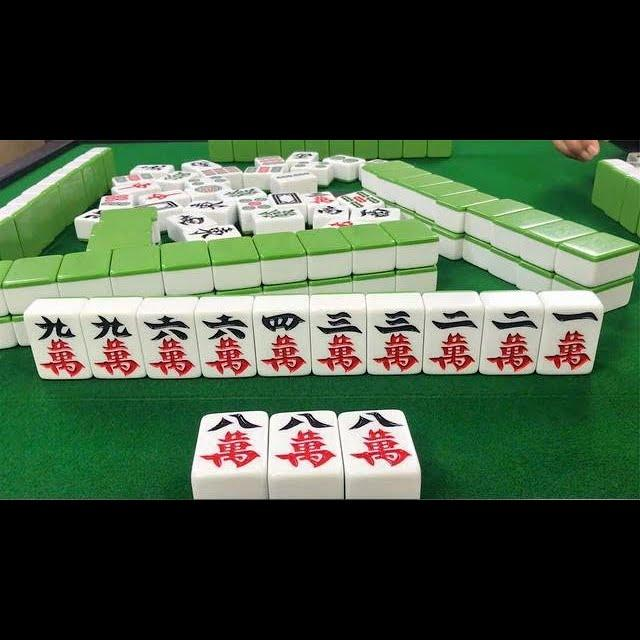c1: (542, 297, 602, 373)
c2: (484, 306, 540, 374), (426, 304, 480, 372)
c3: (369, 302, 423, 373), (312, 308, 366, 374)
c4: (256, 304, 308, 376)
c6: (143, 312, 197, 378), (199, 311, 253, 377)
c8: (194, 412, 266, 476), (342, 410, 413, 474), (269, 412, 339, 474)
c9: (85, 312, 143, 380), (32, 313, 84, 379)
